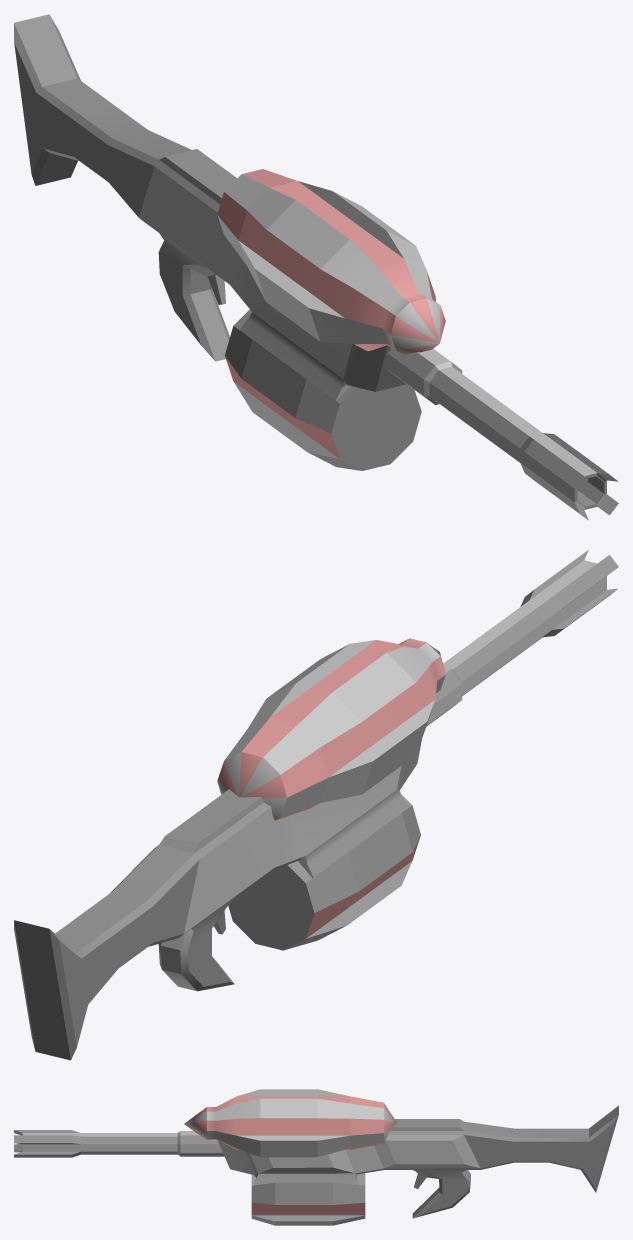
File: PlayerGun 1.fbx
3 renders of one model, top to bottom at view 1: azimuth 30°, elevation 25°; view 2: azimuth 150°, elevation 25°; view 3: azimuth 270°, elevation 25°, orthographic. The views are drawn at different scales.
Visible parts, largest first — view 1: PlayerGun; view 2: PlayerGun; view 3: PlayerGun.
Part boxes in pixels (left/top/right/bottom): PlayerGun: left=14, top=14, right=618, bottom=520; PlayerGun: left=14, top=550, right=618, bottom=1060; PlayerGun: left=14, top=1089, right=618, bottom=1225.
Size of the model in its own units: 2.62 by 5.03 by 21.73.
